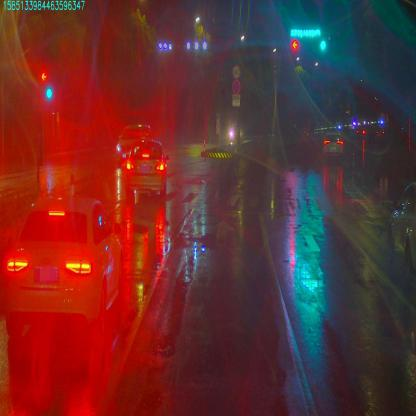traffic-light: (290, 26, 321, 36), (320, 37, 327, 51), (291, 38, 297, 51)
